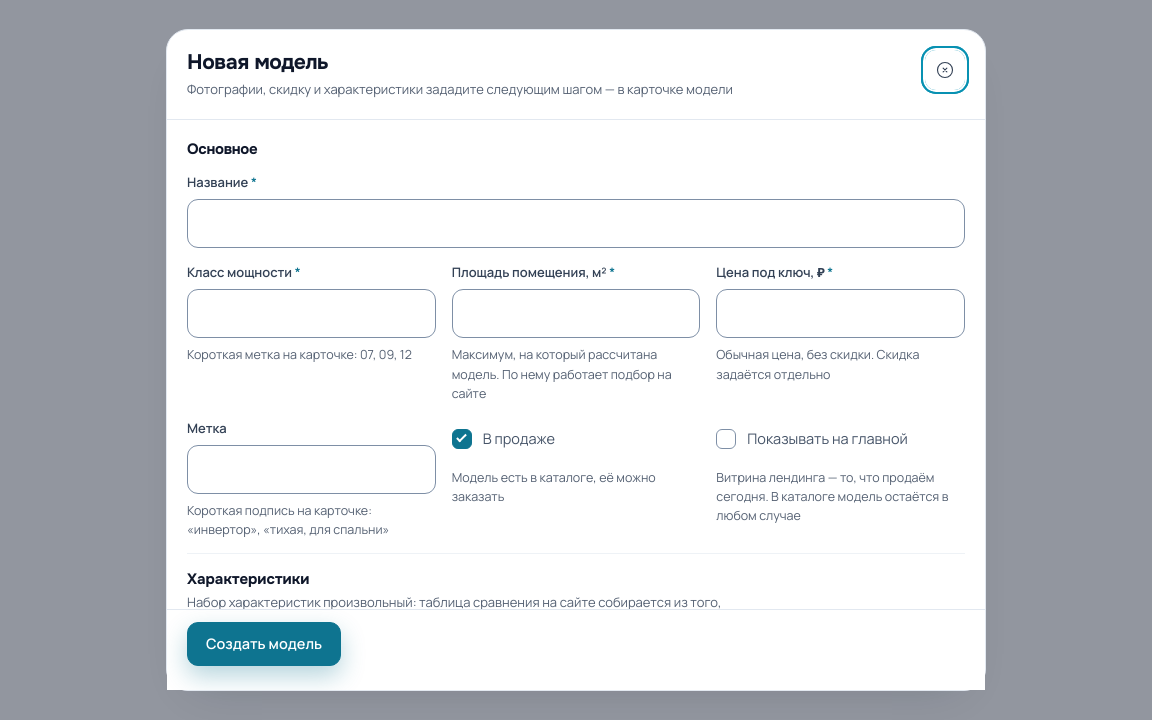
Scenario: Окно создания модели каталога › 🔴 заполненная форма по Escape спрашивает, а не закрывается молча (ADR-141)
Type "Сплит-система 07" into the field labelled "Название *".
click(576, 224); type("Сплит-система 07")  # box [187,199,965,248]
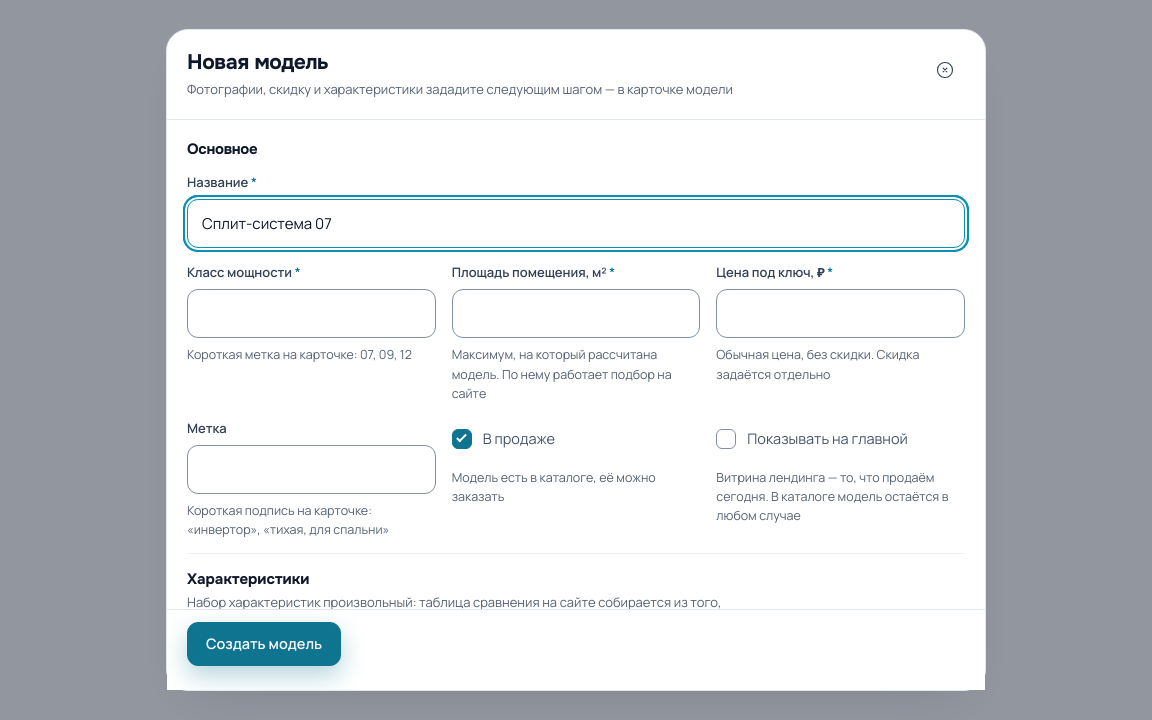
Press Escape
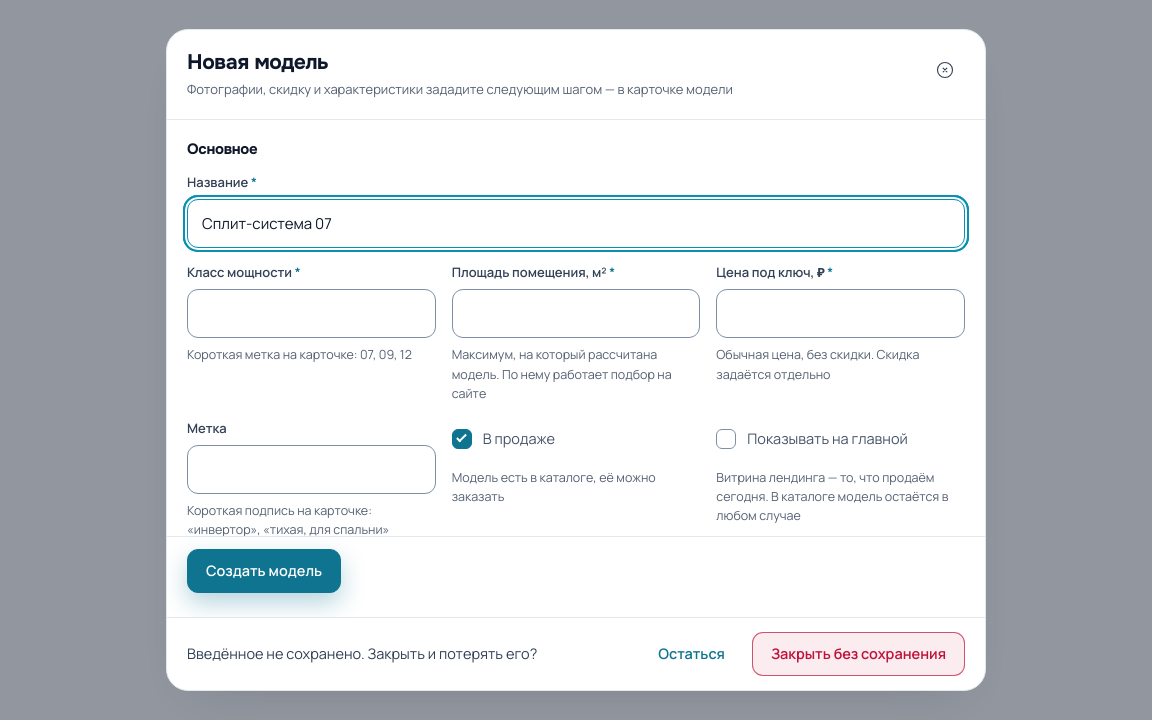
Check: the dialog is shown, box [187,632,965,676]
